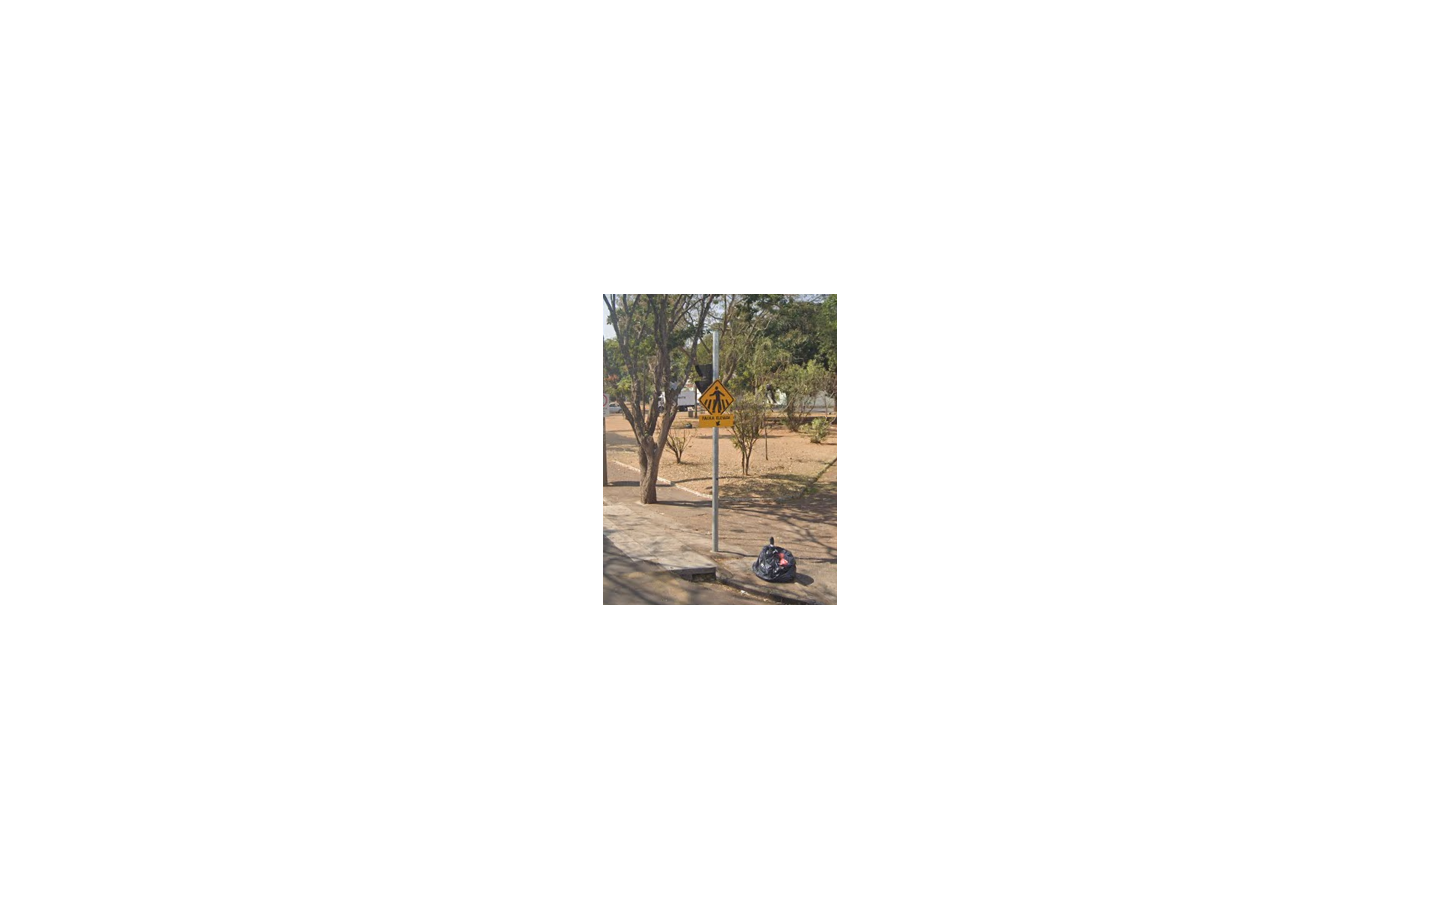telev: (697, 379, 735, 427)
